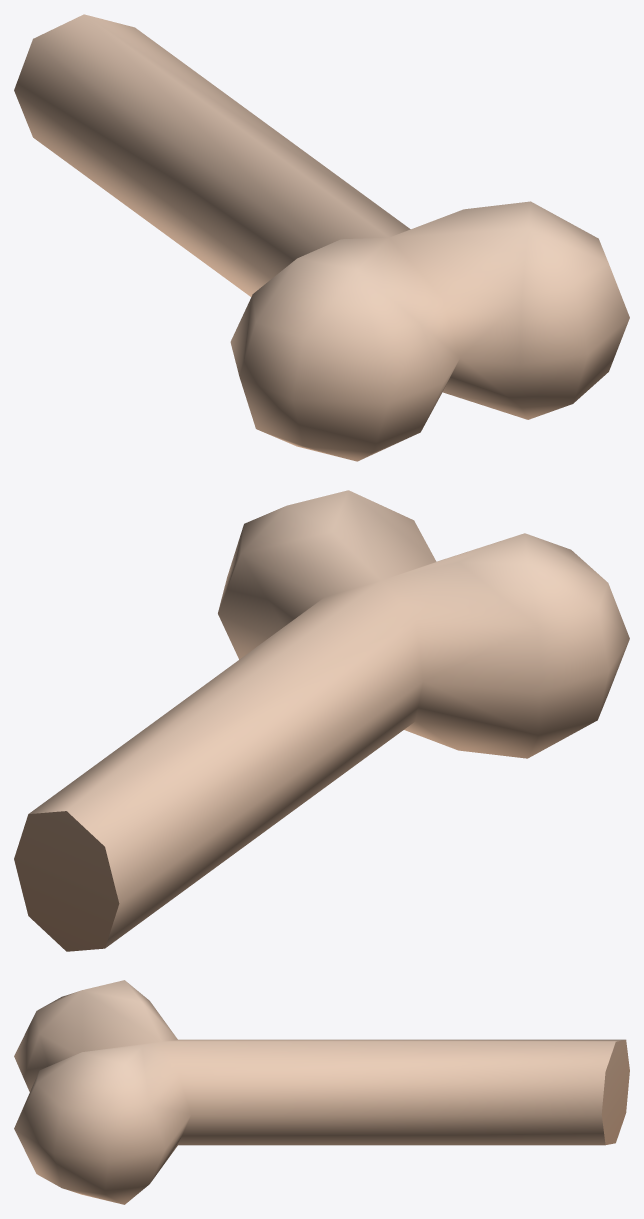
Rendered from Bone2.fbx.
3 renders of one model, top to bottom at view 1: azimuth 30°, elevation 25°; view 2: azimuth 150°, elevation 25°; view 3: azimuth 270°, elevation 25°, orthographic. The views are drawn at different scales.
Visible parts, largest first — view 1: Bone2; view 2: Bone2; view 3: Bone2.
Boxes of the visible parts, x1=… form: Bone2: x1=14, y1=14, x2=629, y2=461; Bone2: x1=14, y1=490, x2=629, y2=951; Bone2: x1=14, y1=980, x2=629, y2=1204.
Size of the model in its own units: 11.99 by 5.93 by 23.21.
